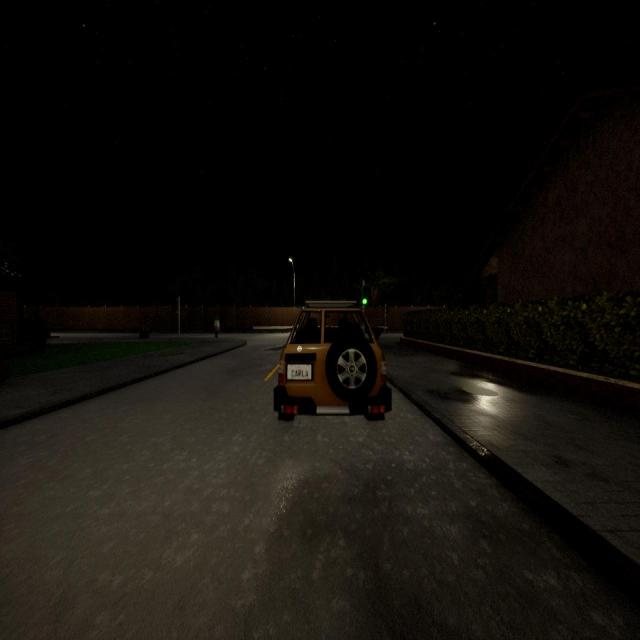Vehicle: (273, 301, 391, 420)
traffic_light: (361, 285, 368, 306)
